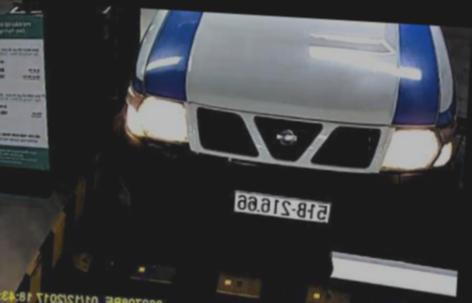License_Plate: (229, 188, 335, 223)
